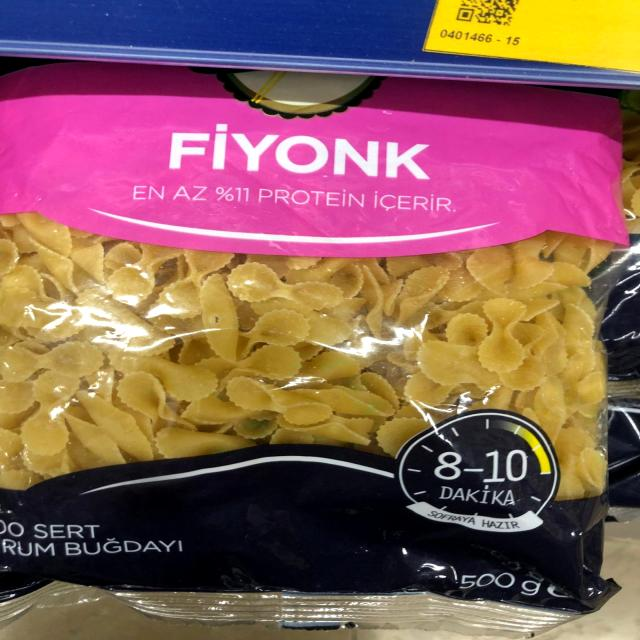farfalle pasta: (1, 67, 620, 622)
